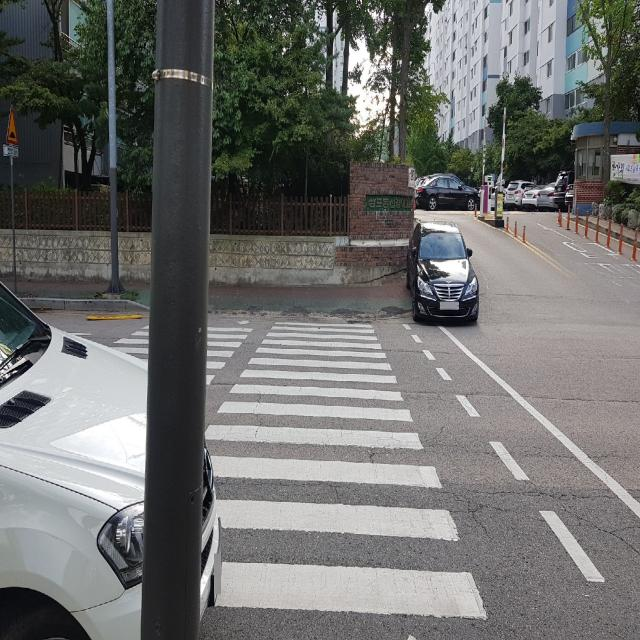횡단보도: (111, 322, 490, 640)
